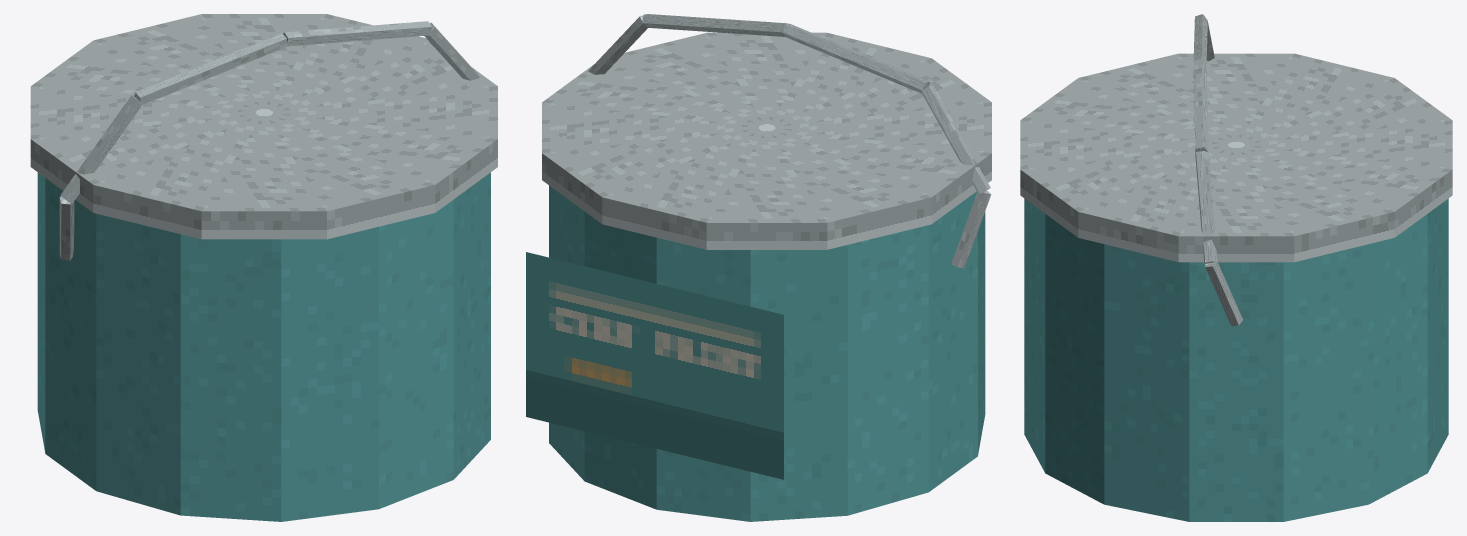
Rendered from paint_cyan.glb.
3 renders of one model, left to right at view 1: azimuth 30°, elevation 25°; view 2: azimuth 150°, elevation 25°; view 3: azimuth 270°, elevation 25°, orthographic. The views are drawn at different scales.
Parts seen in each view (by area): view 1: block_body, block_paint bucket lid, block_wire carry bail 2, block_wire carry bail 3, block_wire carry bail 1, block_wire carry bail 4, block_wire carry bail 0; view 2: block_body, block_paint bucket lid, block_paint label, block_wire carry bail 2, block_wire carry bail 3, block_wire carry bail 1, block_wire carry bail 0, block_wire carry bail 4; view 3: block_body, block_paint bucket lid, block_wire carry bail 4, block_wire carry bail 3, block_wire carry bail 5, block_wire carry bail 2.
Part boxes in pixels (bbox=[...]): block_body: bbox=[37, 172, 490, 521]; block_paint bucket lid: bbox=[30, 14, 497, 239]; block_wire carry bail 2: bbox=[134, 33, 287, 104]; block_wire carry bail 3: bbox=[283, 21, 431, 46]; block_wire carry bail 1: bbox=[60, 95, 142, 203]; block_wire carry bail 4: bbox=[424, 22, 479, 80]; block_wire carry bail 0: bbox=[59, 196, 74, 260]; block_body: bbox=[549, 185, 985, 521]; block_paint bucket lid: bbox=[542, 32, 991, 249]; block_paint label: bbox=[526, 252, 783, 479]; block_wire carry bail 2: bbox=[782, 23, 929, 93]; block_wire carry bail 3: bbox=[642, 14, 788, 36]; block_wire carry bail 1: bbox=[921, 84, 990, 193]; block_wire carry bail 0: bbox=[951, 191, 991, 268]; block_wire carry bail 4: bbox=[588, 15, 647, 74]; block_body: bbox=[1024, 198, 1448, 521]; block_paint bucket lid: bbox=[1020, 53, 1452, 262]; block_wire carry bail 4: bbox=[1195, 151, 1217, 264]; block_wire carry bail 3: bbox=[1193, 58, 1208, 152]; block_wire carry bail 5: bbox=[1205, 260, 1242, 326]; block_wire carry bail 2: bbox=[1193, 14, 1207, 63].
Size of the model in its own units: 0.2967 by 0.2663 by 0.276.
2 materials, 2 textured.
